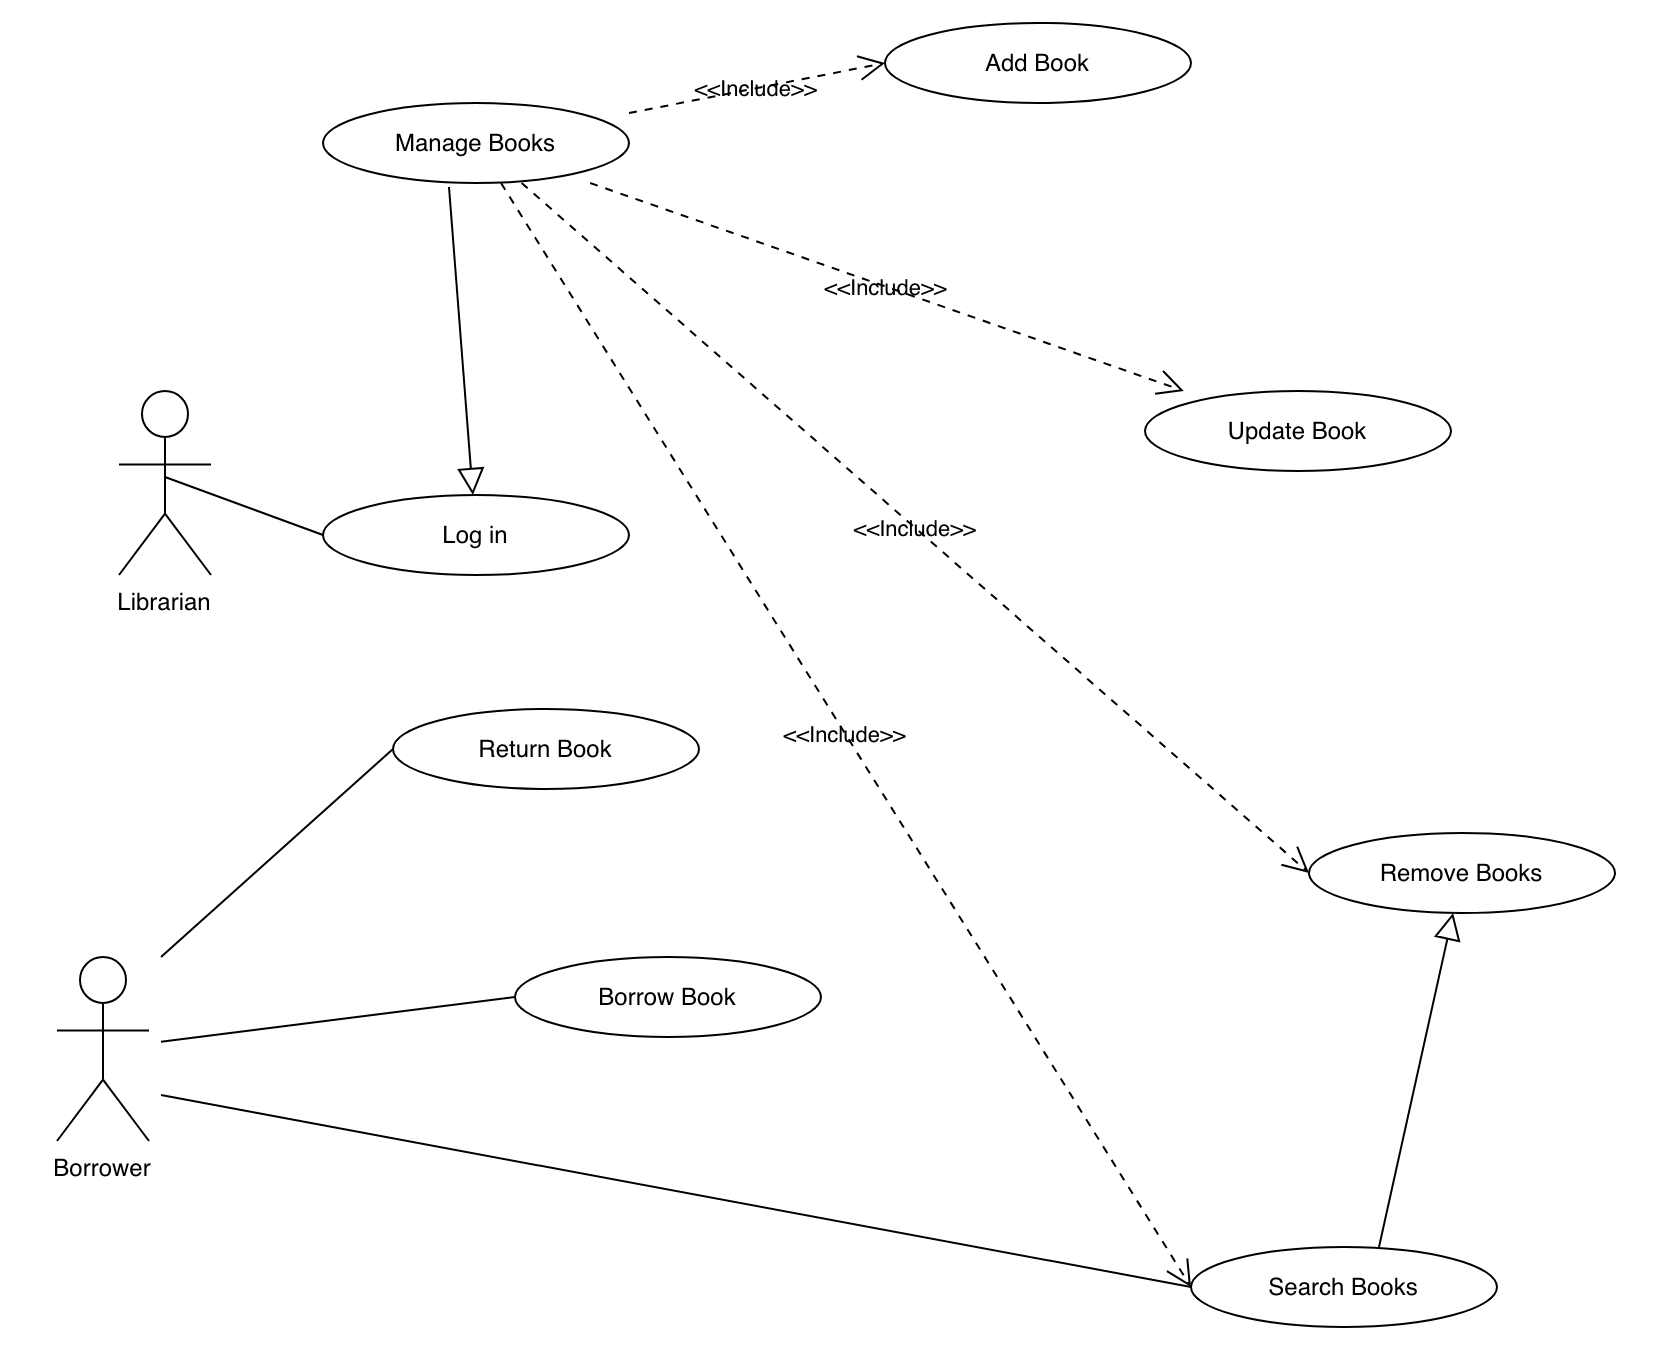actor: (116, 386, 216, 585), (56, 952, 153, 1147)
association: (495, 180, 1191, 1285), (523, 182, 1311, 876), (160, 1091, 1188, 1286), (590, 175, 1184, 397), (160, 747, 392, 959), (155, 993, 513, 1047), (624, 52, 880, 116), (165, 472, 327, 546)
generalization: (447, 183, 488, 498)
text: (1373, 854, 1562, 888), (1263, 1269, 1430, 1308), (389, 127, 558, 161), (475, 730, 618, 769), (1221, 414, 1373, 450), (783, 721, 911, 755), (981, 45, 1098, 83), (596, 985, 741, 1014), (849, 514, 983, 545), (48, 1151, 157, 1186), (824, 275, 948, 304), (696, 77, 824, 105), (114, 589, 217, 618), (432, 519, 517, 553)
use_case: (1307, 827, 1622, 917), (391, 703, 700, 794), (1188, 1242, 1501, 1331), (512, 952, 822, 1041), (883, 19, 1197, 107), (319, 492, 631, 580), (318, 100, 634, 187), (1142, 388, 1454, 475)
